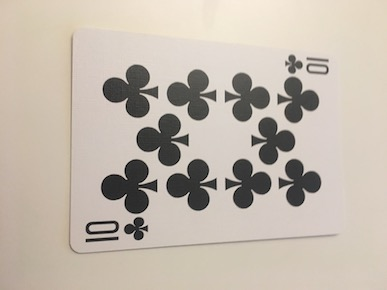TenOfClubs: (64, 23, 346, 254)
